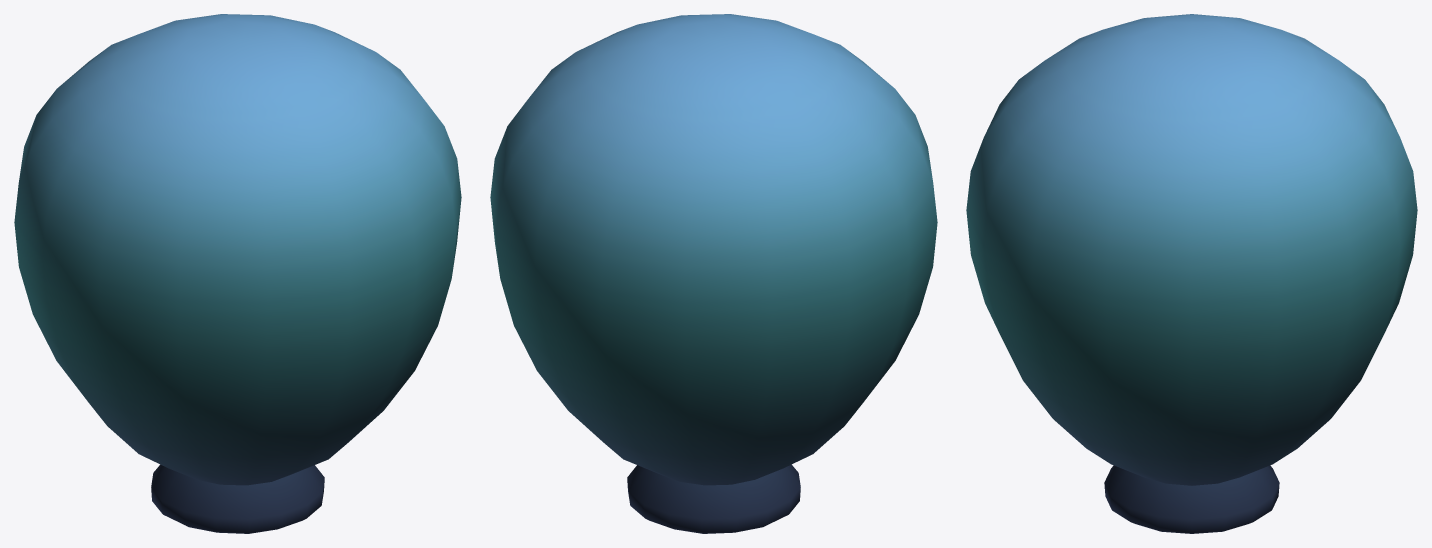
Rendered from SM_Balloon.fbx.
3 views of the same model, side by side, from view 1: azimuth 30°, elevation 25°; view 2: azimuth 150°, elevation 25°; view 3: azimuth 270°, elevation 25° (orthographic).
Visible parts, largest first — view 1: SM_Balloon; view 2: SM_Balloon; view 3: SM_Balloon.
Boxes of the visible parts, bbox=[...] form: SM_Balloon: bbox=[14, 14, 461, 533]; SM_Balloon: bbox=[490, 14, 937, 533]; SM_Balloon: bbox=[966, 14, 1417, 533].
Size of the model in its own units: 87.95 by 99.02 by 87.95.
